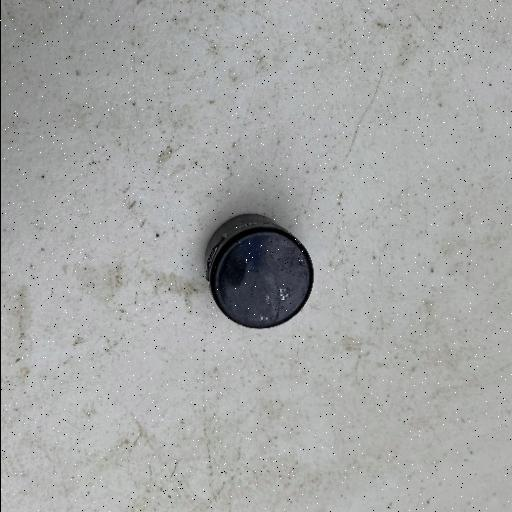Plastic: (202, 211, 316, 330)
